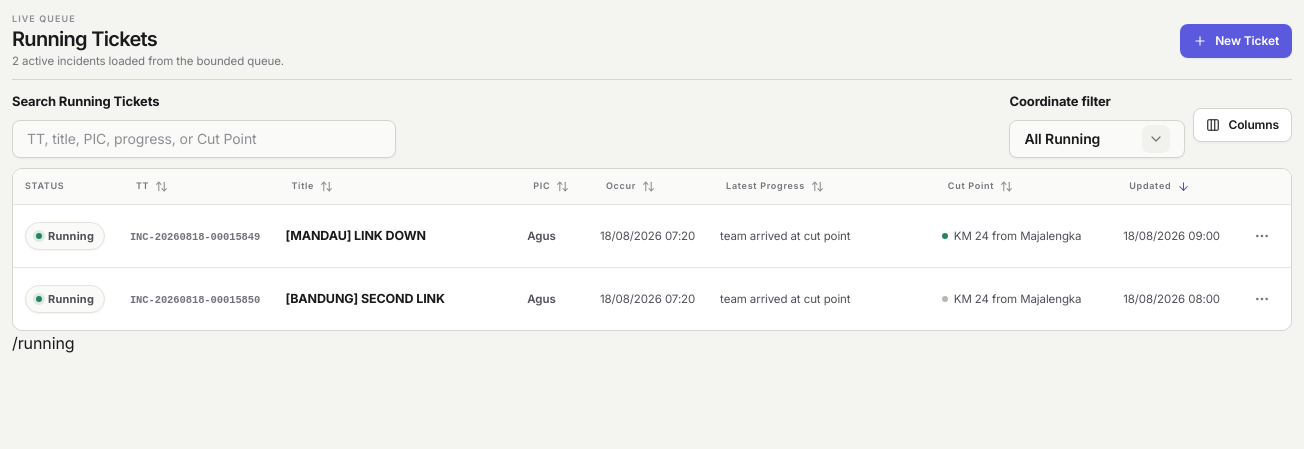
Test: RunningTicketsPage operational workspace › resolves a Running Ticket with optimistic revision and removes it from the queue
Press the mouse on the button named "Actions for INC-20260818-00015849" at (1262, 236), box [1245,219,1279,253]
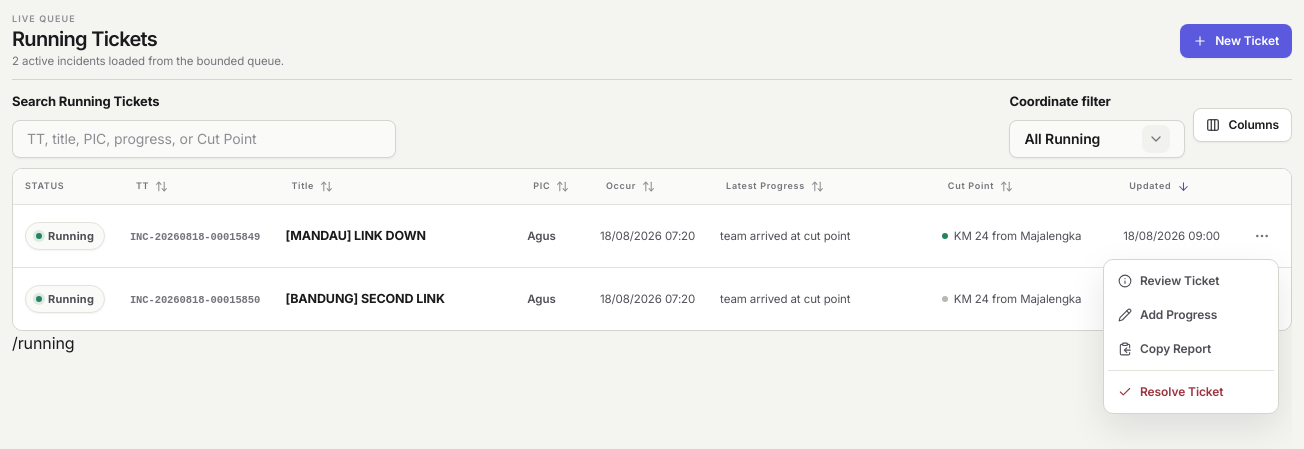
Click the menu item "Resolve Ticket".
click(1171, 392)  # box [1118,384,1224,399]
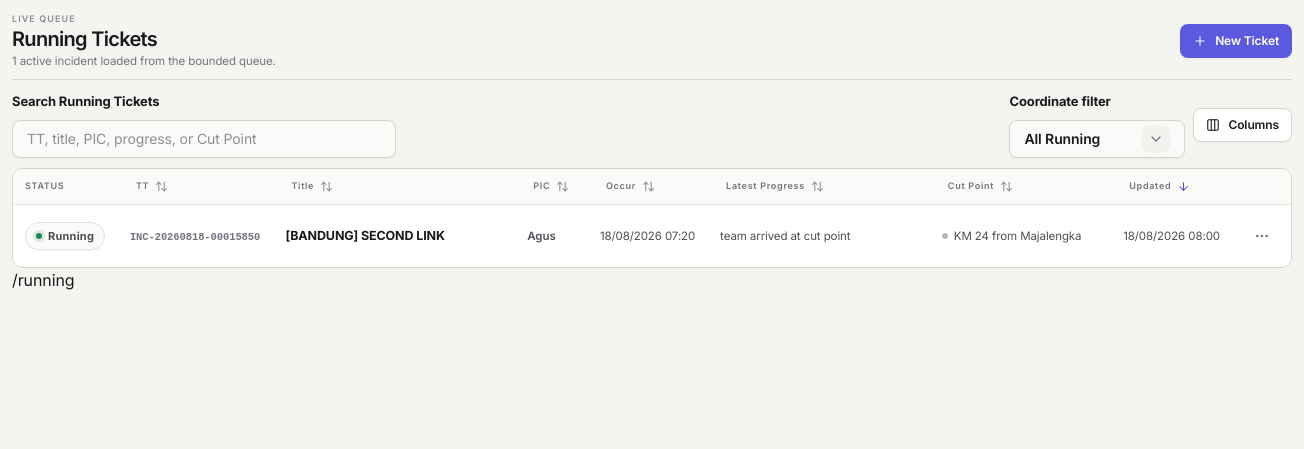
Now no links "[MANDAU] LINK DOWN" are shown
